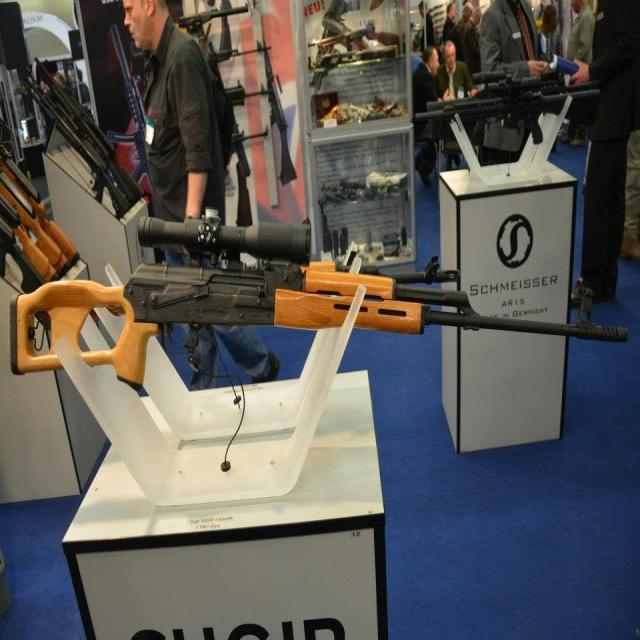firearm: (10, 215, 628, 389), (18, 68, 128, 216), (413, 75, 604, 145), (110, 24, 161, 193), (263, 47, 296, 186), (313, 18, 402, 59), (184, 1, 250, 32), (210, 38, 259, 70)
